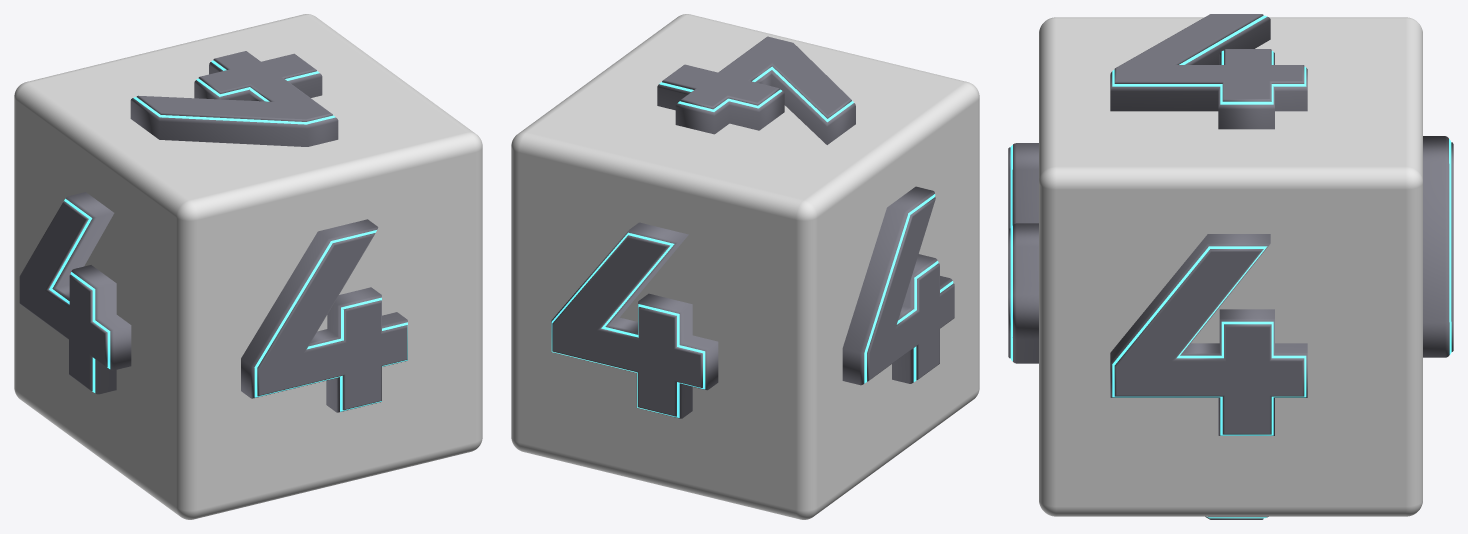
The model's file is Number 4.fbx.
The picture shows the model from 3 angles, left to right: view 1: azimuth 30°, elevation 25°; view 2: azimuth 150°, elevation 25°; view 3: azimuth 270°, elevation 25°; orthographic projection. The views are drawn at different scales.
Parts seen in each view (by area): view 1: Cube, N_4_smaller.001, N_4_smaller, N_4_smaller.004, N_4_side.004, N_4_side.001, N_4_side, N_4_border.001, N_4_border.004, N_4_border; view 2: Cube, N_4_smaller.003, N_4_smaller, N_4_smaller.004, N_4_side, N_4_side.004, N_4_side.003, N_4_border.003, N_4_border, N_4_border.004; view 3: Cube, N_4_smaller.002, N_4_smaller.004, N_4_side.004, N_4_side.003, N_4_side.001, N_4_side.002, N_4_border.002, N_4_border.004, N_4_border.001, N_4_border.003, N_4_smaller.001 (+1 smaller).
Part boxes in pixels (x1,y1,x2,y2): Cube: [14, 14, 482, 519]; N_4_smaller.001: [257, 233, 407, 410]; N_4_smaller: [19, 201, 107, 390]; N_4_smaller.004: [136, 51, 332, 121]; N_4_side.004: [130, 62, 338, 146]; N_4_side.001: [241, 219, 407, 412]; N_4_side: [52, 192, 131, 394]; N_4_border.001: [254, 230, 407, 411]; N_4_border.004: [133, 60, 335, 124]; N_4_border: [49, 198, 110, 392]; Cube: [511, 14, 979, 519]; N_4_smaller.003: [552, 235, 702, 416]; N_4_smaller: [867, 197, 954, 381]; N_4_smaller.004: [662, 36, 851, 118]; N_4_side: [842, 186, 952, 385]; N_4_side.004: [657, 70, 855, 144]; N_4_side.003: [551, 222, 718, 418]; N_4_border.003: [551, 232, 705, 417]; N_4_border: [864, 194, 953, 383]; N_4_border.004: [659, 66, 853, 122]; Cube: [1039, 17, 1422, 516]; N_4_smaller.002: [1114, 249, 1304, 434]; N_4_smaller.004: [1114, 14, 1304, 101]; N_4_side.004: [1110, 16, 1307, 129]; N_4_side.003: [1423, 136, 1449, 357]; N_4_side.001: [1012, 143, 1038, 363]; N_4_side.002: [1110, 234, 1307, 435]; N_4_border.002: [1112, 246, 1306, 435]; N_4_border.004: [1112, 15, 1306, 104]; N_4_border.001: [1010, 145, 1012, 361]; N_4_border.003: [1449, 139, 1451, 354]; N_4_smaller.001: [1008, 147, 1010, 358].
Bounding box in the file's own units: 232 × 232 × 232.
